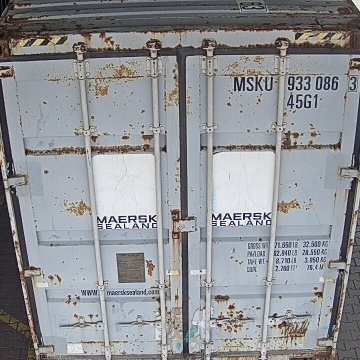serial_id: (234, 75, 358, 91)
